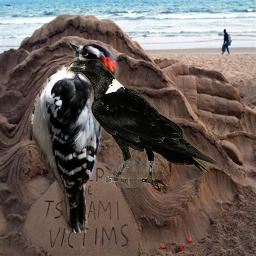Crow: (66, 59, 218, 188)
Woodpecker: (28, 37, 120, 233)
